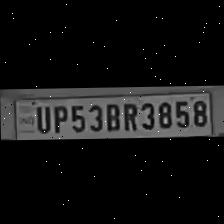3: (85, 102, 103, 132), (138, 98, 154, 129)
5: (66, 102, 86, 132), (171, 96, 189, 128)
8: (154, 97, 172, 128), (190, 96, 208, 127)
B: (103, 100, 120, 130)
P: (50, 102, 66, 132)
R: (120, 99, 138, 130)
U: (33, 103, 51, 132)
